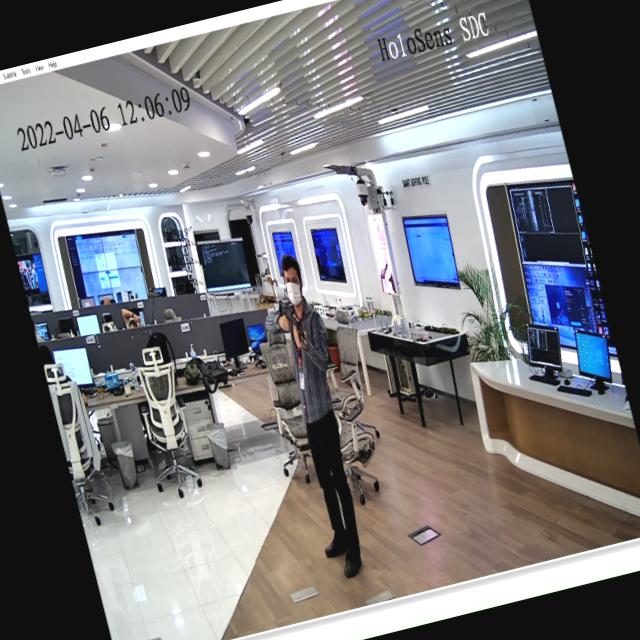long weapon: (274, 293, 310, 358)
